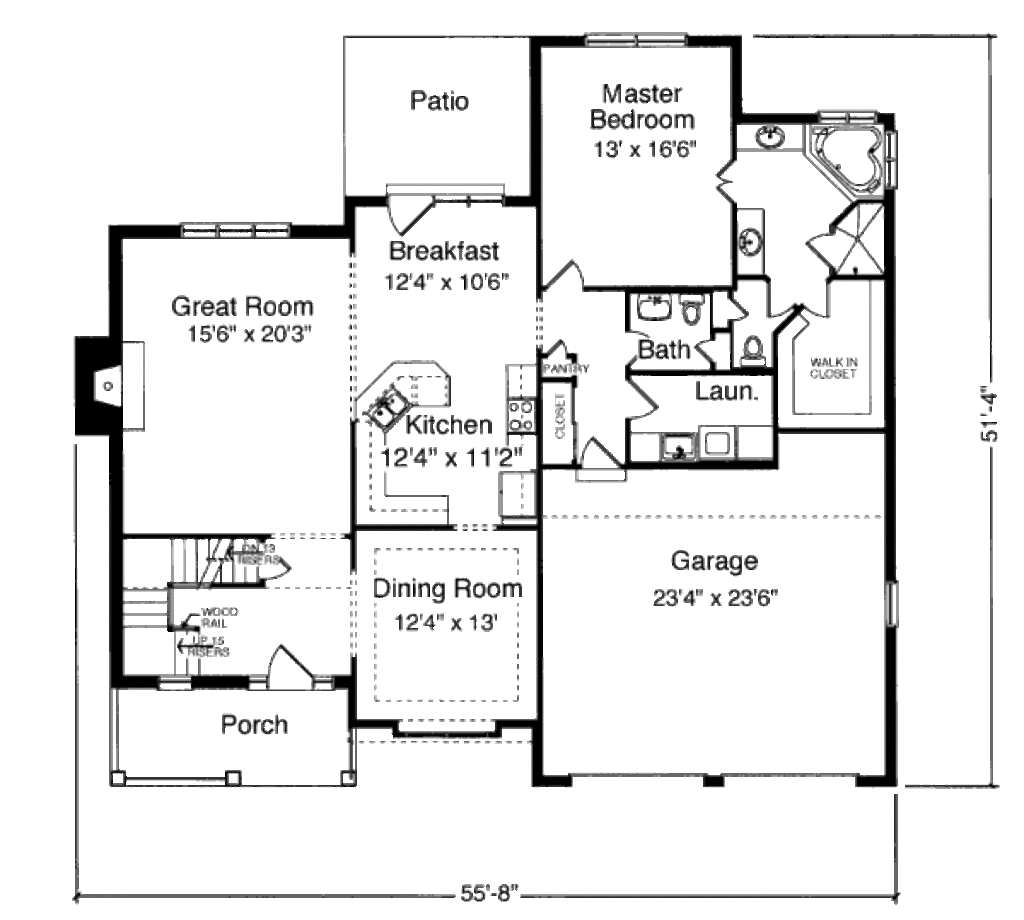door: (265, 646, 321, 689), (792, 277, 831, 327), (756, 276, 793, 323), (619, 379, 659, 420), (542, 260, 589, 292), (581, 434, 622, 469), (715, 149, 738, 206)
large_sink: (670, 288, 715, 333), (731, 331, 769, 370)
small_sink: (731, 206, 766, 280), (734, 116, 807, 149)
stairs: (115, 539, 265, 673)
tub: (806, 125, 887, 202)
twin_sink: (369, 382, 412, 432)
windows: (569, 770, 858, 793), (173, 216, 294, 245), (570, 27, 694, 55), (432, 185, 509, 216)
